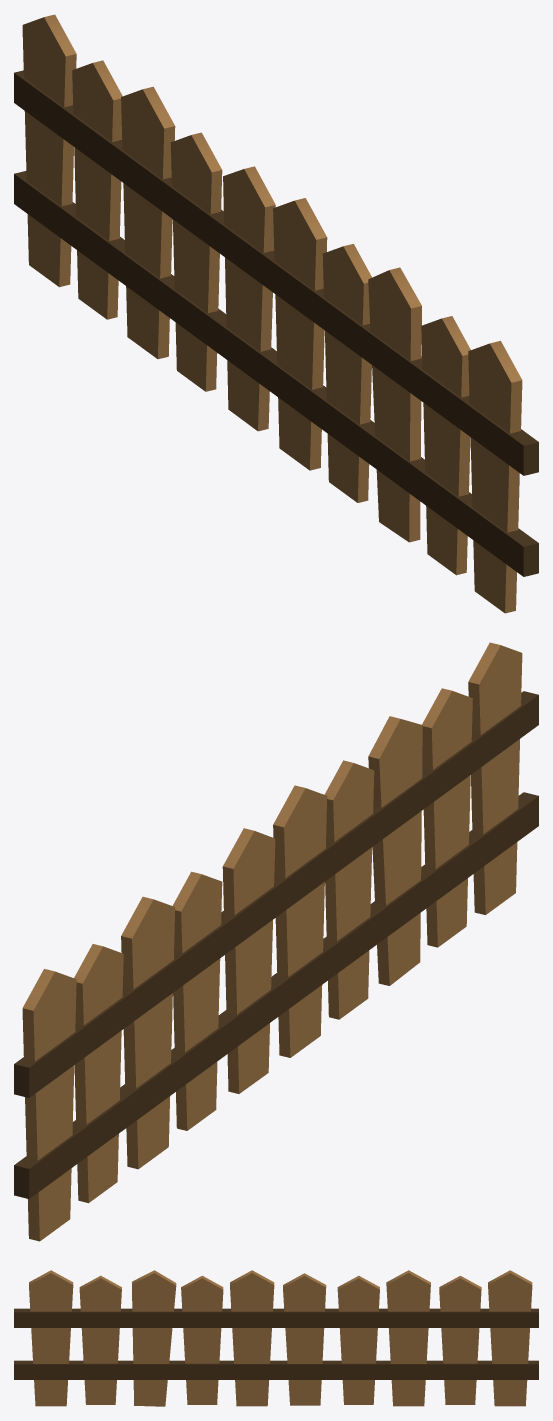
Rendered from Fence.fbx.
3 views of the same model, one above another, from view 1: azimuth 30°, elevation 25°; view 2: azimuth 150°, elevation 25°; view 3: azimuth 270°, elevation 25° (orthographic). The views are drawn at different scales.
Visible parts, largest first — view 1: pCube13, pCube14, pCube12, pCube2, pCube9, pCube3, pCube10, pCube7, pCube6, pCube5, pCube1, pCube8 (+2 smaller); view 2: pCube7, pCube6, pCube9, pCube3, pCube10, pCube2, pCube12, pCube13, pCube5, pCube14, pCube11, pCube4 (+2 smaller); view 3: pCube6, pCube7, pCube14, pCube13, pCube10, pCube9, pCube12, pCube3, pCube2, pCube5, pCube4, pCube8 (+2 smaller).
Boxes of the visible parts, bbox=[...] form: pCube13: bbox=[264, 354, 538, 576]; pCube14: bbox=[264, 254, 538, 475]; pCube12: bbox=[468, 340, 522, 613]; pCube2: bbox=[368, 267, 421, 542]; pCube9: bbox=[22, 14, 76, 287]; pCube3: bbox=[273, 198, 327, 470]; pCube10: bbox=[121, 86, 175, 359]; pCube7: bbox=[14, 171, 276, 386]; pCube6: bbox=[14, 70, 274, 285]; pCube5: bbox=[223, 166, 275, 431]; pCube1: bbox=[170, 132, 222, 391]; pCube8: bbox=[72, 60, 122, 319]; pCube7: bbox=[14, 975, 288, 1198]; pCube6: bbox=[14, 875, 288, 1097]; pCube9: bbox=[22, 969, 76, 1241]; pCube3: bbox=[273, 785, 327, 1057]; pCube10: bbox=[121, 896, 175, 1169]; pCube2: bbox=[368, 716, 422, 985]; pCube12: bbox=[468, 642, 522, 914]; pCube13: bbox=[271, 792, 538, 1009]; pCube5: bbox=[222, 828, 275, 1093]; pCube14: bbox=[274, 691, 538, 907]; pCube11: bbox=[422, 688, 472, 947]; pCube4: bbox=[324, 760, 374, 1019]; pCube6: bbox=[272, 1308, 538, 1327]; pCube7: bbox=[272, 1360, 538, 1379]; pCube14: bbox=[14, 1308, 280, 1327]; pCube13: bbox=[14, 1360, 280, 1379]; pCube10: bbox=[386, 1270, 430, 1406]; pCube9: bbox=[488, 1270, 532, 1406]; pCube12: bbox=[29, 1270, 73, 1406]; pCube3: bbox=[230, 1270, 274, 1406]; pCube2: bbox=[132, 1270, 176, 1406]; pCube5: bbox=[283, 1273, 326, 1405]; pCube4: bbox=[181, 1275, 223, 1404]; pCube8: bbox=[439, 1275, 481, 1404].
Size of the model in its own units: 0.1707 by 2.78 by 9.87.
